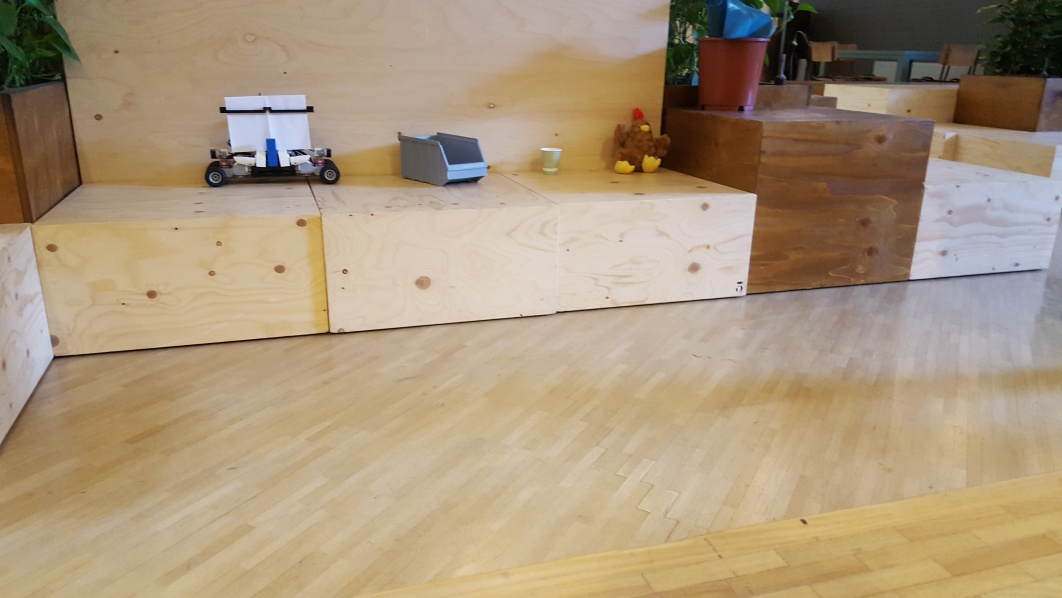beam: (263, 136, 281, 172)
chicken: (611, 107, 668, 176)
cup: (536, 146, 565, 178)
tray: (394, 131, 488, 187)
